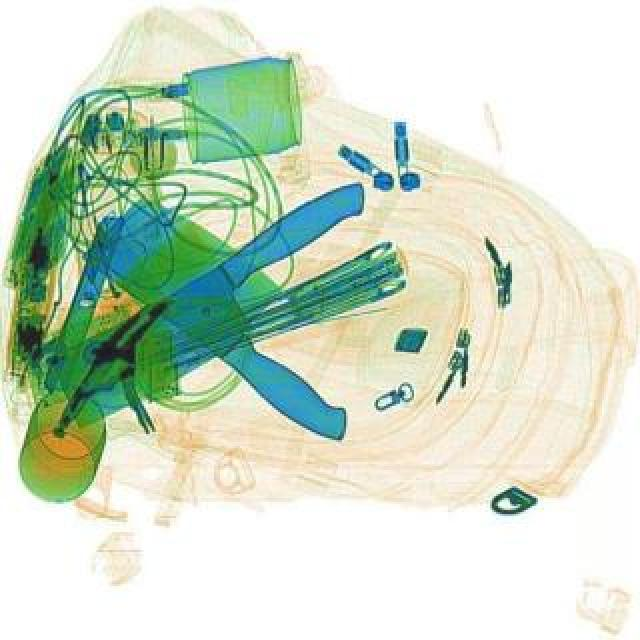knife: (32, 176, 408, 430), (74, 184, 402, 448)
